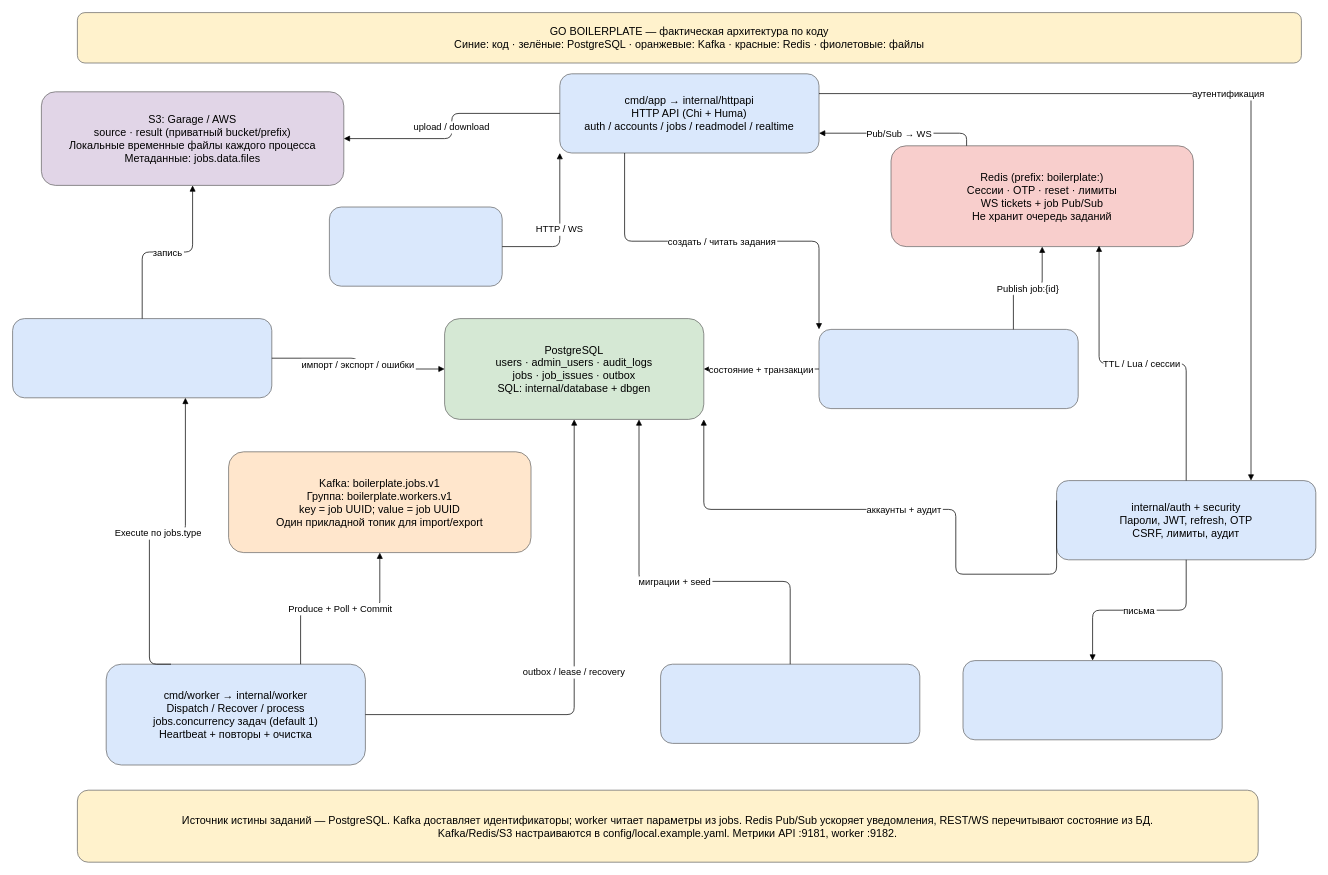
Some shapes in this 1328 by 875 pixel diagram are drawn without their labels. Each missing label, with the box of its shape:
cmd/migrate Goose: SQL-миграции auth.Seed: отсутствующие админы: (660, 663, 920, 743)
internal/jobs.Service Create / Claim / Heartbeat Finish / Publish / S3 cleanup: (818, 329, 1078, 409)
internal/mail → SMTP OTP администратора Сброс пароля: (962, 660, 1222, 740)
internal/usertasks Import: CSV/XLSX → users Export: users → CSV/XLSX: (12, 318, 272, 398)
Клиент / Swagger REST + WebSocket: (329, 206, 502, 286)
